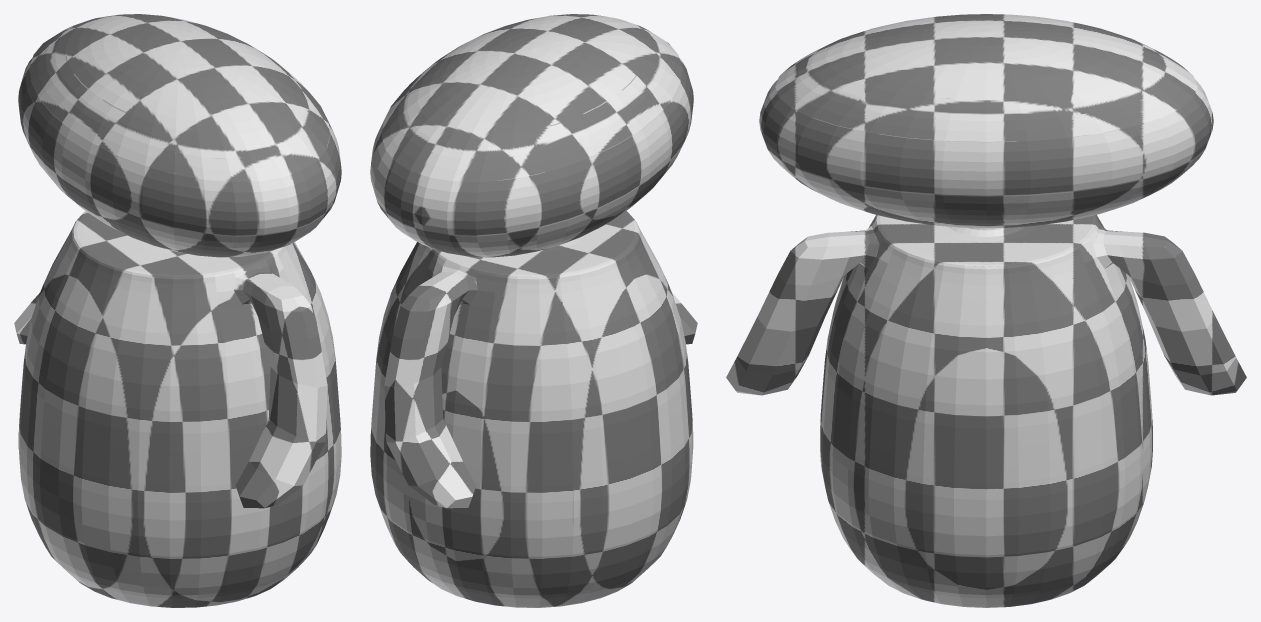
The model's file is seeker_crouching.glb.
The picture shows the model from 3 angles, left to right: view 1: azimuth 30°, elevation 25°; view 2: azimuth 150°, elevation 25°; view 3: azimuth 270°, elevation 25°; orthographic projection. The views are drawn at different scales.
Visible parts, largest first — view 1: seeker_crouching; view 2: seeker_crouching; view 3: seeker_crouching.
Boxes of the visible parts, <box> form: seeker_crouching: <box>14,14,341,607</box>; seeker_crouching: <box>370,14,697,607</box>; seeker_crouching: <box>726,14,1246,607</box>.
Size of the model in its own units: 0.5722 by 1 by 0.8942.
1 material, 1 textured.
